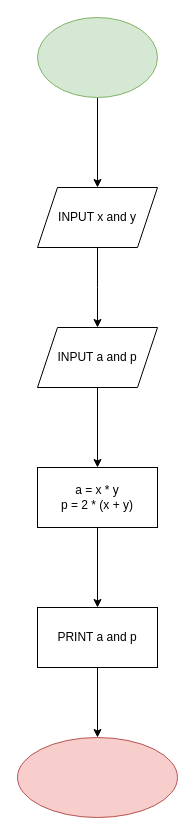
Image size: 195x835. Some labels were removed from this diagram. The shapes that lost their labels are listed below. From the top down, each one's centre as x and y in pixels, then its label:
At (97,57): "START".
At (97,777): "END".
